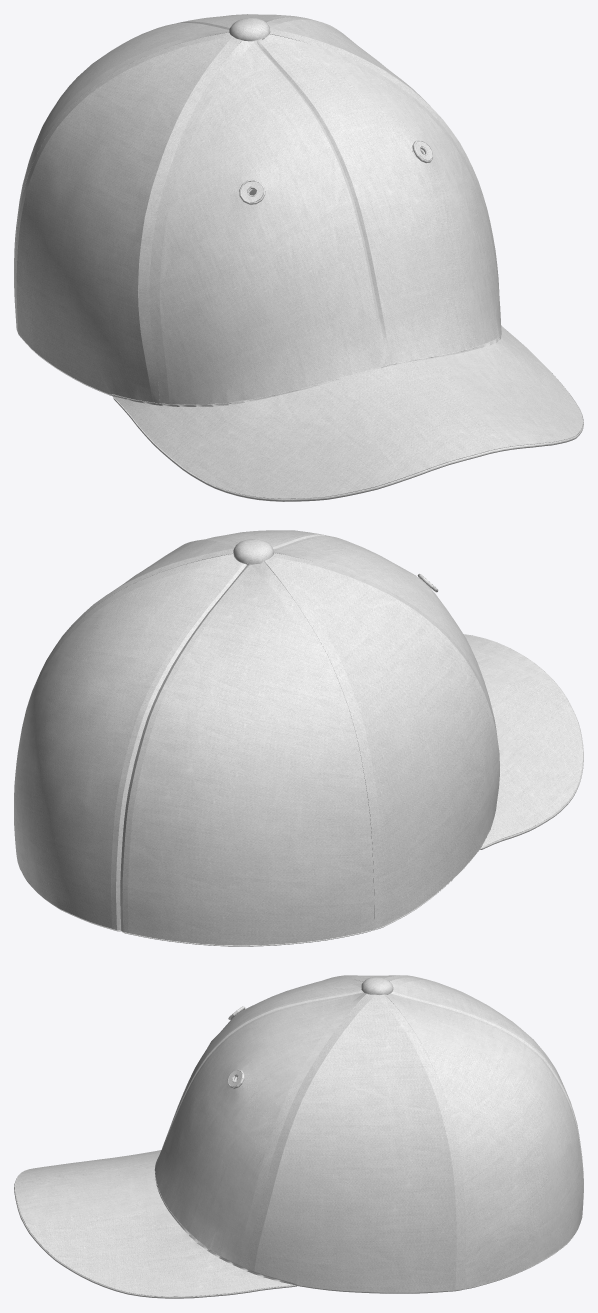
Rendered from 89141678_CLI-704-HC1.zip.glb.
3 renders of one model, top to bottom at view 1: azimuth 30°, elevation 25°; view 2: azimuth 150°, elevation 25°; view 3: azimuth 270°, elevation 25°, orthographic. The views are drawn at different scales.
Parts seen in each view (by area): view 1: Pattern2D_52260, Pattern2D_54010, Pattern2D_47370, Pattern2D_9002040, Pattern2D_53100, Pattern2D_47372, Pattern2D0; view 2: Pattern2D_9002040, Pattern2D_54010, Pattern2D_47370, Pattern2D_52260, Pattern2D_53100, Pattern2D0, Pattern2D_9002042; view 3: Pattern2D_53100, Pattern2D_9002040, Pattern2D_52260, Pattern2D_47370, Pattern2D_47372, Pattern2D0.
Boxes of the visible parts, x1,y1,x2,y2 form: Pattern2D_52260: (149,34,501,404); Pattern2D_54010: (15,32,241,402); Pattern2D_47370: (111,326,582,498); Pattern2D_9002040: (14,14,304,322); Pattern2D_53100: (266,17,499,289); Pattern2D_47372: (110,373,583,501); Pattern2D0: (229,17,270,40); Pattern2D_9002040: (14,554,374,945); Pattern2D_54010: (264,553,499,929); Pattern2D_47370: (464,634,582,847); Pattern2D_52260: (207,530,497,736); Pattern2D_53100: (40,538,238,672); Pattern2D0: (233,539,274,563); Pattern2D_9002042: (20,553,374,946); Pattern2D_53100: (247,994,465,1292); Pattern2D_9002040: (386,977,583,1288); Pattern2D_52260: (155,978,366,1268); Pattern2D_47370: (15,1150,295,1296); Pattern2D_47372: (14,1172,296,1298); Pattern2D0: (361,977,393,994).
Bounding box in the file's own units: 0.1743 × 0.1379 × 0.2833.
Materials: 1 (1 with a texture image).
